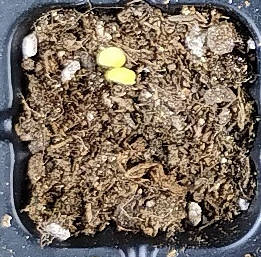pepper seed: (38, 25, 174, 110), (33, 13, 160, 82)
